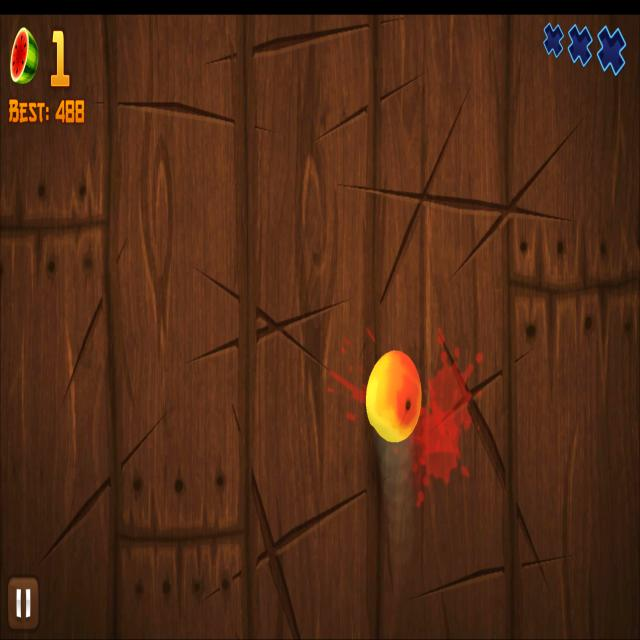fruit: (366, 350, 423, 443)
